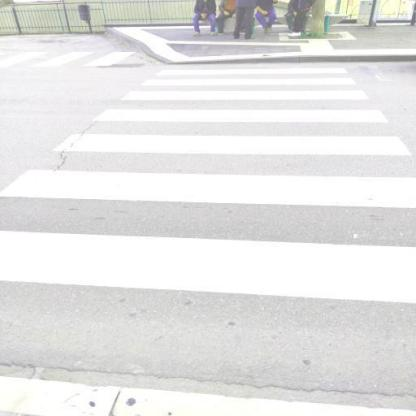crosswalk: (50, 105, 414, 164), (140, 64, 362, 89)
